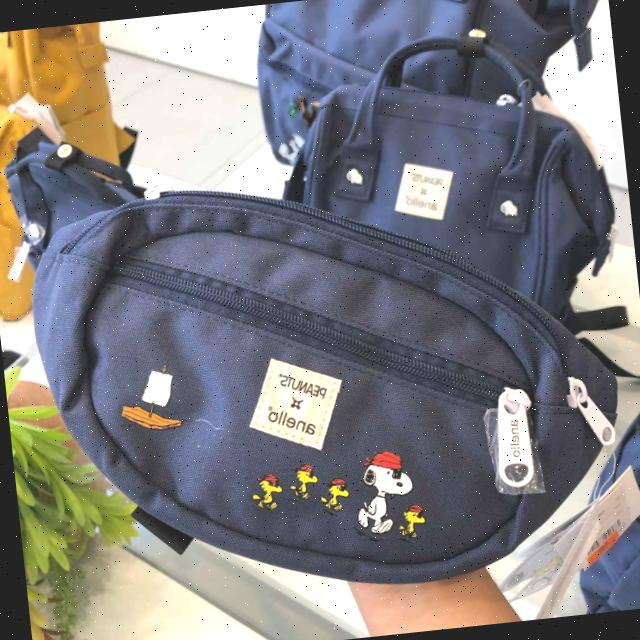handbag: (0, 84, 640, 623)
